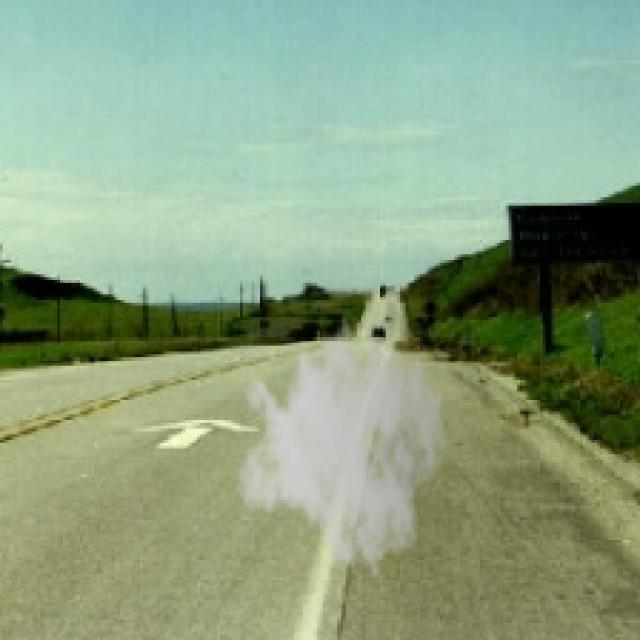smoke: (234, 300, 449, 580)
